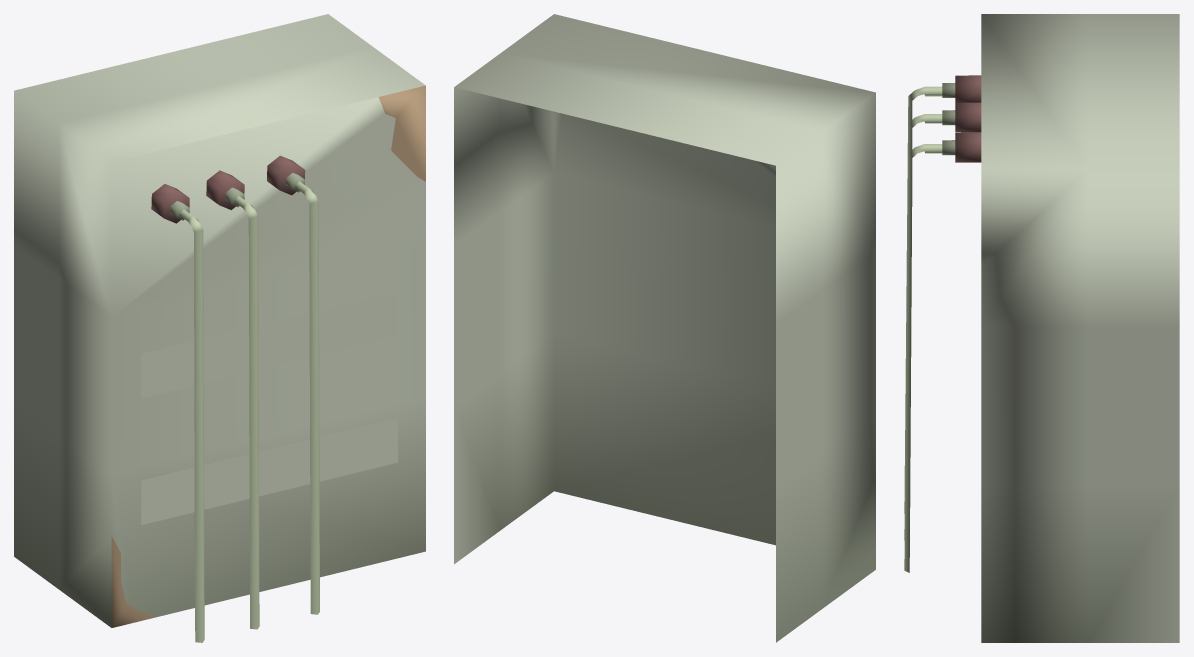
Rendered from MSH_QuestObject_machine_01.fbx.
3 views of the same model, side by side, from view 1: azimuth 30°, elevation 25°; view 2: azimuth 150°, elevation 25°; view 3: azimuth 270°, elevation 25° (orthographic). The views are drawn at different scales.
Parts seen in each view (by area): view 1: MSH_QuestObject_machine_01; view 2: MSH_QuestObject_machine_01; view 3: MSH_QuestObject_machine_01.
Part boxes in pixels (x1,y1,x2,y2): MSH_QuestObject_machine_01: (14, 14, 425, 642); MSH_QuestObject_machine_01: (454, 14, 875, 642); MSH_QuestObject_machine_01: (904, 14, 1179, 642).
Bounding box in the file's own units: 2.1 × 2.98 × 1.57.
